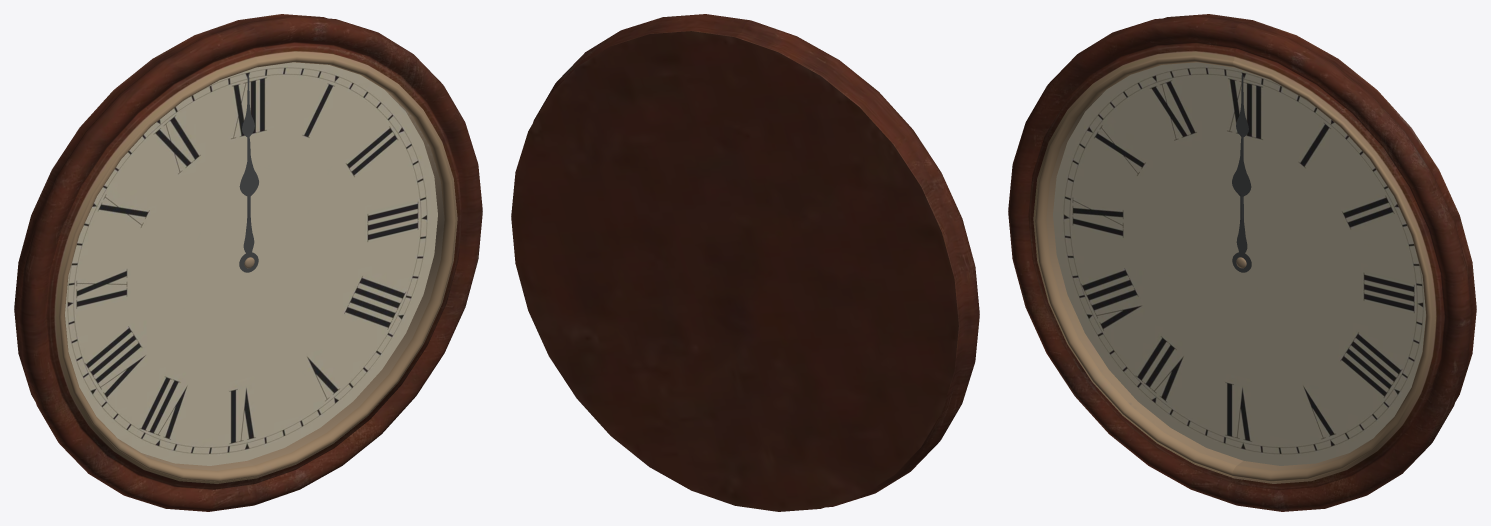
File: clock.glb
3 views of the same model, side by side, from view 1: azimuth 30°, elevation 25°; view 2: azimuth 150°, elevation 25°; view 3: azimuth 330°, elevation 25° (orthographic).
Parts seen in each view (by area): view 1: Object_2; view 2: Object_2; view 3: Object_2.
Boxes of the visible parts, box(x1,y1,x2,y2) form: Object_2: box(14, 14, 482, 511); Object_2: box(511, 14, 979, 511); Object_2: box(1008, 14, 1476, 511).
Size of the model in its own units: 0.4 by 0.4 by 0.0308.
Materials: 1 (1 with a texture image).
